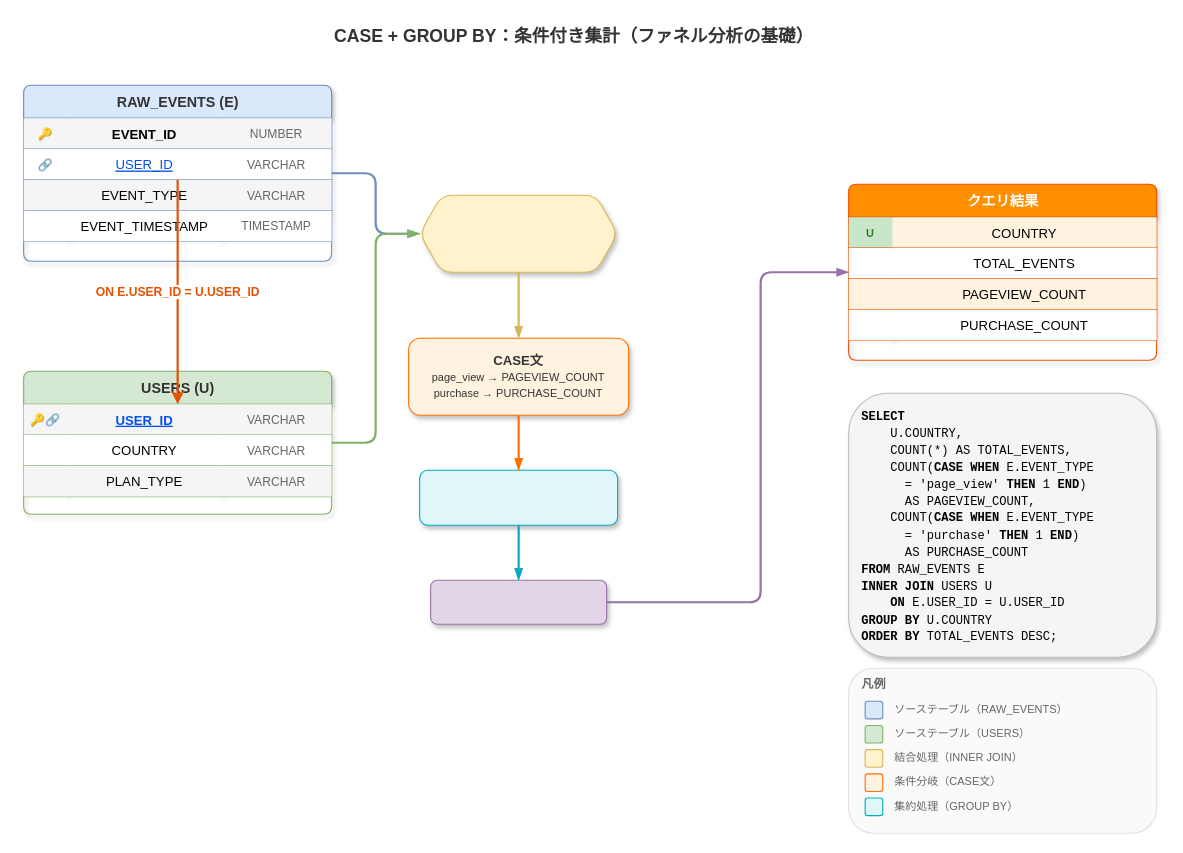
This 1183x853 diagram has some shape labels left out. Each missing label, with the centre of its shape:
GROUP BY U.COUNTRY: (x=519, y=499)
INNER JOIN 両テーブルに存在する レコードのみ結合: (x=519, y=235)
ORDER BY TOTAL_EVENTS DESC: (x=519, y=603)
